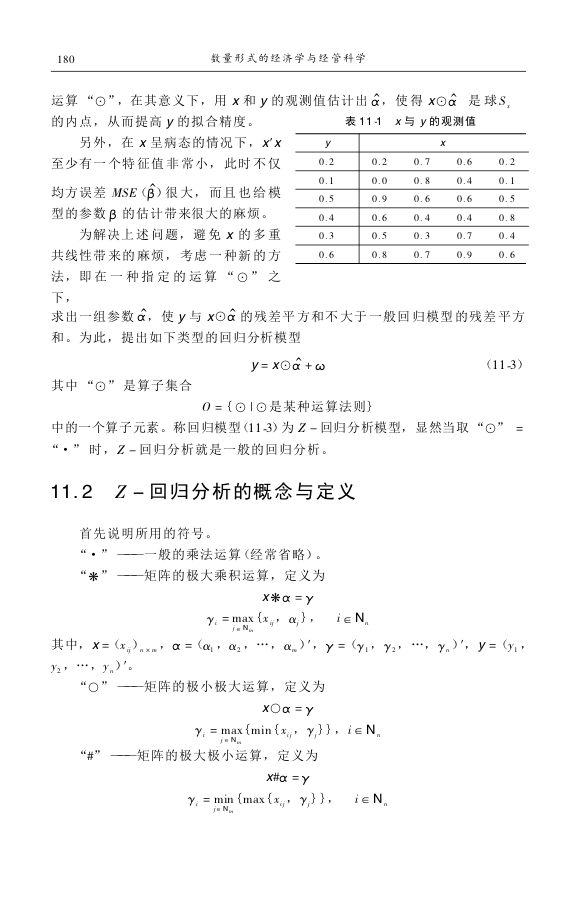table: (295, 133, 528, 263)
